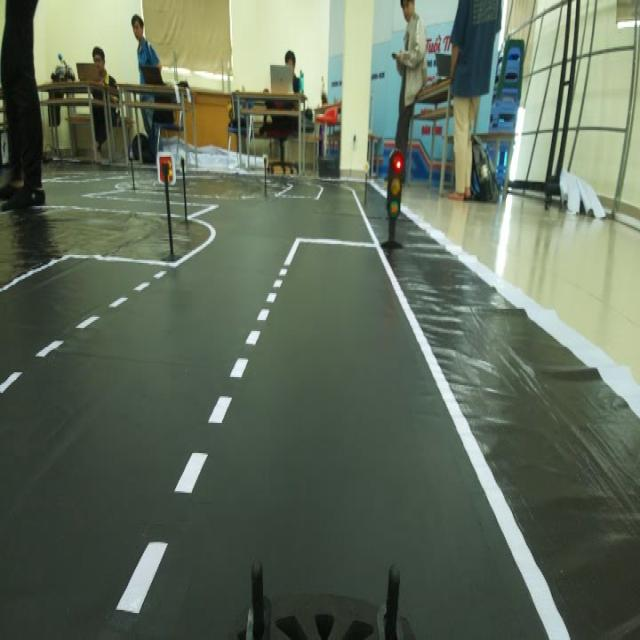trafficlight: (376, 146, 411, 272)
